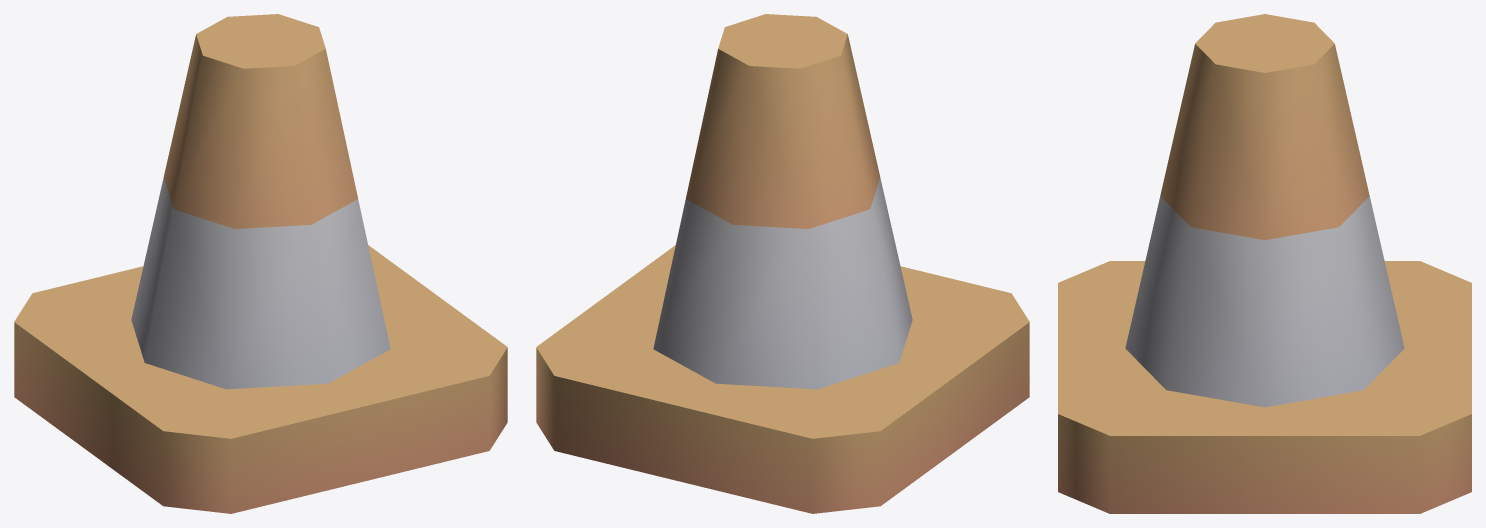
The model's file is toy_cone.glb.
3 renders of one model, left to right at view 1: azimuth 30°, elevation 25°; view 2: azimuth 150°, elevation 25°; view 3: azimuth 270°, elevation 25°, orthographic. The views are drawn at different scales.
Visible parts, largest first — view 1: toy_cone; view 2: toy_cone; view 3: toy_cone.
Part boxes in pixels (left/top/right/bottom): toy_cone: left=14, top=14, right=507, bottom=513; toy_cone: left=536, top=14, right=1029, bottom=513; toy_cone: left=1058, top=14, right=1471, bottom=513.
Size of the model in its own units: 8.81 by 9 by 8.81.
